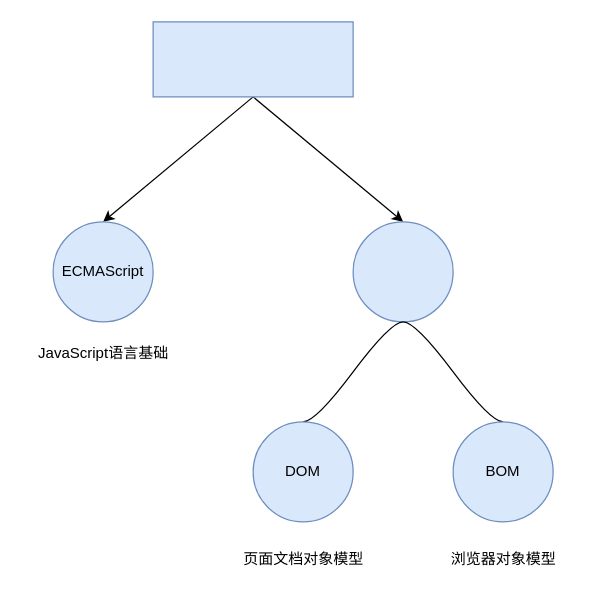
Some shapes in this 593 by 600 pixel diagram are drawn without their labels. Each missing label, with the box of its shape:
JavaScript: (152, 21, 353, 97)
Web APIs: (352, 221, 453, 322)
